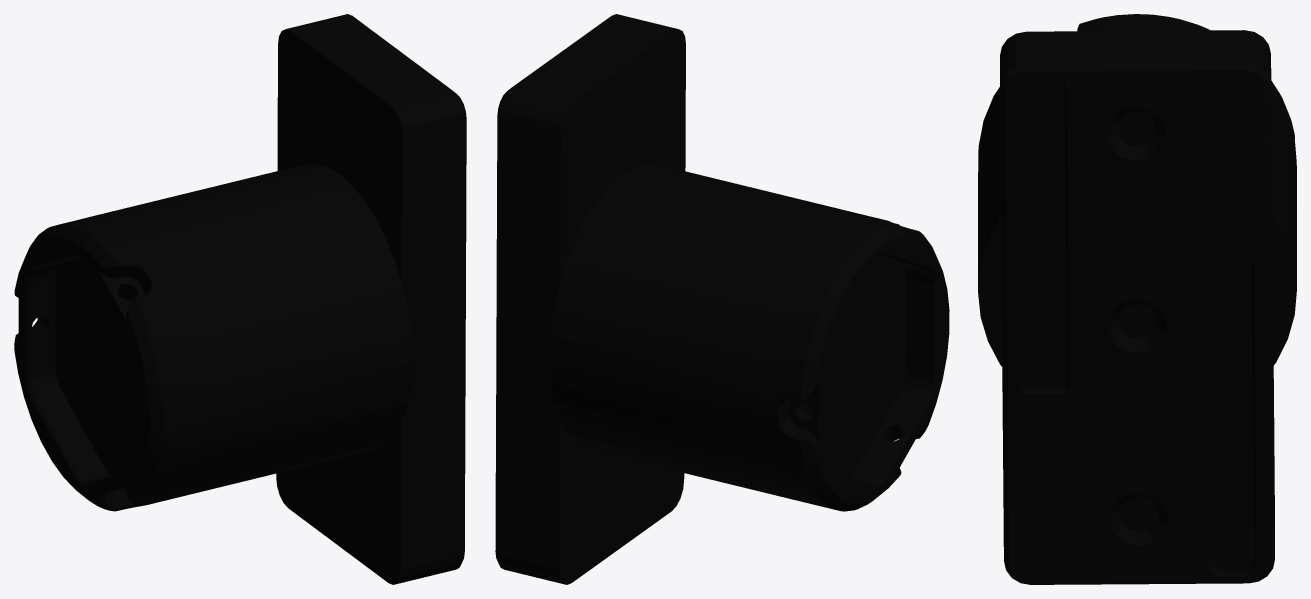
Rendered from left_gripper_link.obj.
3 views of the same model, side by side, from view 1: azimuth 30°, elevation 25°; view 2: azimuth 150°, elevation 25°; view 3: azimuth 270°, elevation 25° (orthographic). The views are drawn at different scales.
Parts seen in each view (by area): view 1: left_gripper_link; view 2: left_gripper_link; view 3: left_gripper_link.
Boxes of the visible parts, x1=… form: left_gripper_link: x1=14, y1=14, x2=466, y2=584; left_gripper_link: x1=495, y1=14, x2=949, y2=584; left_gripper_link: x1=978, y1=14, x2=1296, y2=584.
Bounding box in the file's own units: 0.0767 × 0.1083 × 0.06.
